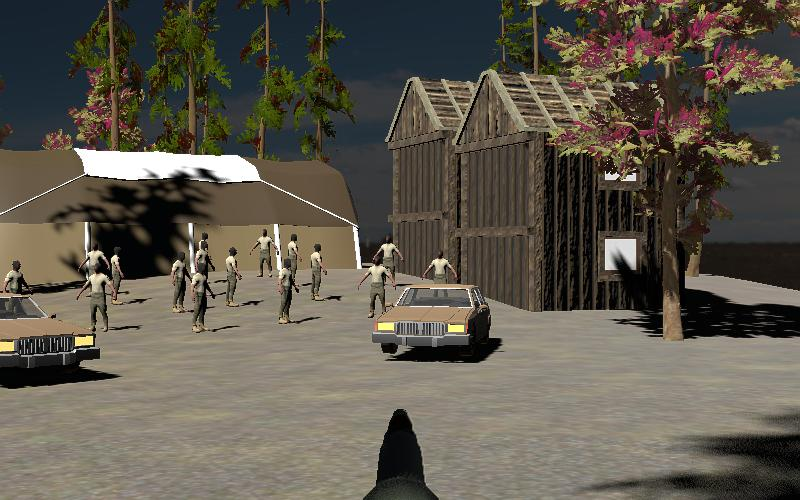House: (453, 68, 667, 312), (386, 76, 479, 278)
Human: (75, 261, 118, 335), (357, 253, 397, 320), (190, 263, 216, 334), (373, 232, 404, 287), (169, 248, 194, 314), (249, 227, 279, 279), (277, 257, 299, 325), (423, 247, 458, 285), (223, 246, 243, 308), (308, 240, 328, 301), (2, 258, 33, 297), (109, 243, 127, 303), (286, 232, 303, 281)
car: (369, 280, 495, 358), (0, 290, 101, 381)
